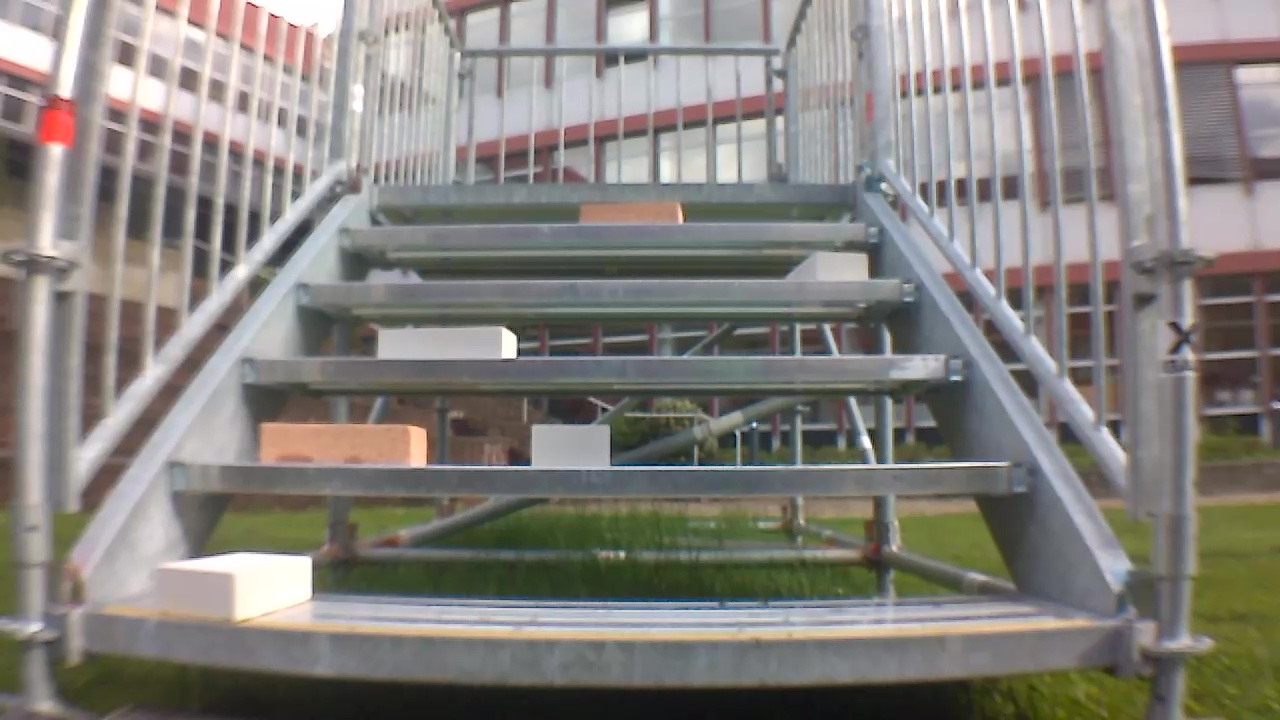brick: (149, 548, 319, 621), (259, 420, 435, 464), (376, 327, 517, 357), (525, 423, 614, 468), (575, 198, 682, 225), (786, 252, 871, 283)
edge: (73, 617, 1141, 681), (156, 461, 1040, 495), (236, 357, 971, 380), (298, 278, 922, 304), (334, 223, 888, 249), (371, 184, 855, 205)
steps: (65, 185, 1162, 682)
